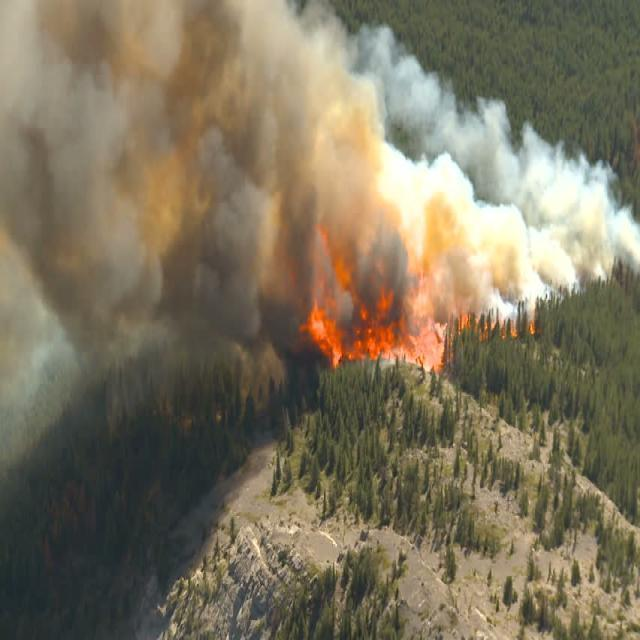Fire: (347, 295, 435, 372), (305, 307, 345, 367)
Smoke: (0, 3, 286, 334)
